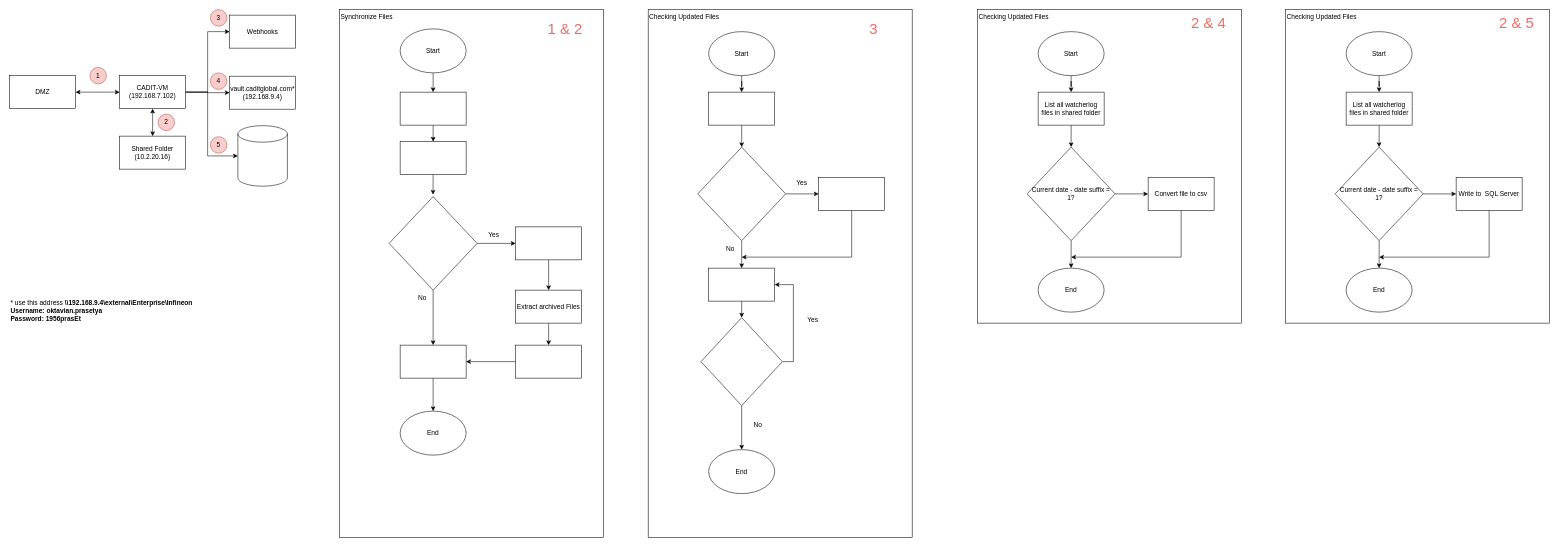
This 1559x547 diagram has some shape labels left out. The shapes that lost their labels are listed below. From the top down, each one's centre as x and y in pixels, then its label:
At (x=433, y=108): "Batch Script Run".
At (x=741, y=108): "Checking files in DMZ".
At (x=262, y=155): "SQL Server (192.168.7.102)".
At (x=433, y=158): "Checking files in DMZ and shared folder".
At (x=741, y=194): "No updated files? (files with suffix date < current date)".
At (x=851, y=193): "Print file name".
At (x=433, y=243): "Is there any new files or existing files with different size?".
At (x=548, y=243): "Copy archived files".
At (x=741, y=284): "Airflow send current status to google space".
At (x=433, y=361): "Remove files on DMZ".
At (x=548, y=361): "Overwrite existing files".
At (x=741, y=361): "DMZ storage status >= 80% ?".
